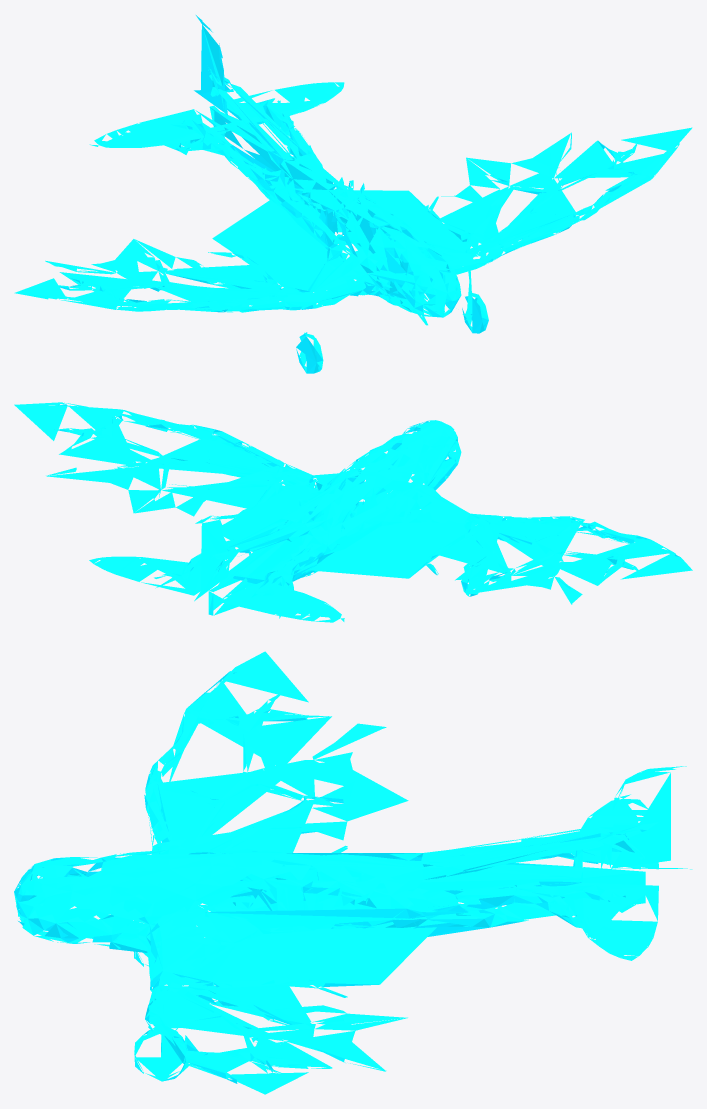
File: PXAB102.glb
3 views of the same model, one above another, from view 1: azimuth 30°, elevation 25°; view 2: azimuth 150°, elevation 25°; view 3: azimuth 270°, elevation 25° (orthographic). The views are drawn at different scales.
Visible parts, largest first — view 1: misc; view 2: misc; view 3: misc.
Boxes of the visible parts, x1,y1,x2,y2 form: misc: (14,15,692,373); misc: (14,402,692,622); misc: (14,651,692,1094).
Bounding box in the file's own units: 0.9802 × 0.2682 × 0.6343.
